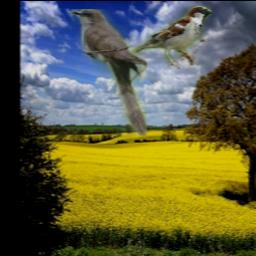Cuckoo: (71, 9, 148, 136)
Sparrow: (132, 5, 213, 69)
